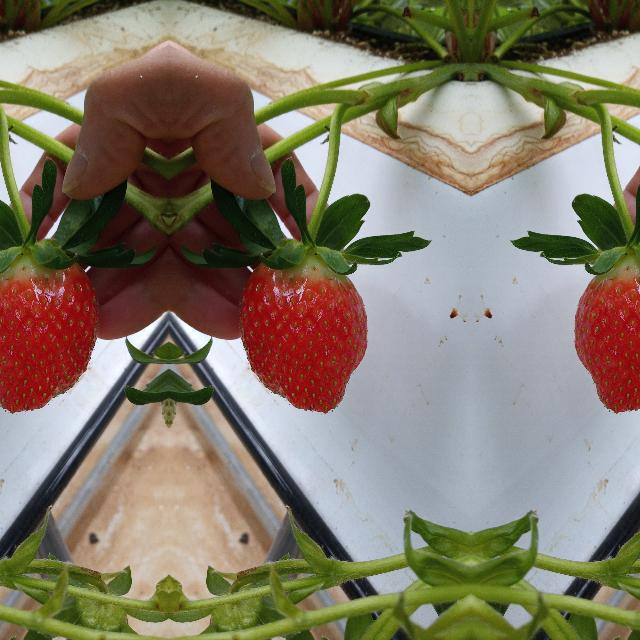Health_100: (236, 250, 368, 414), (0, 249, 100, 414), (573, 249, 640, 414)
